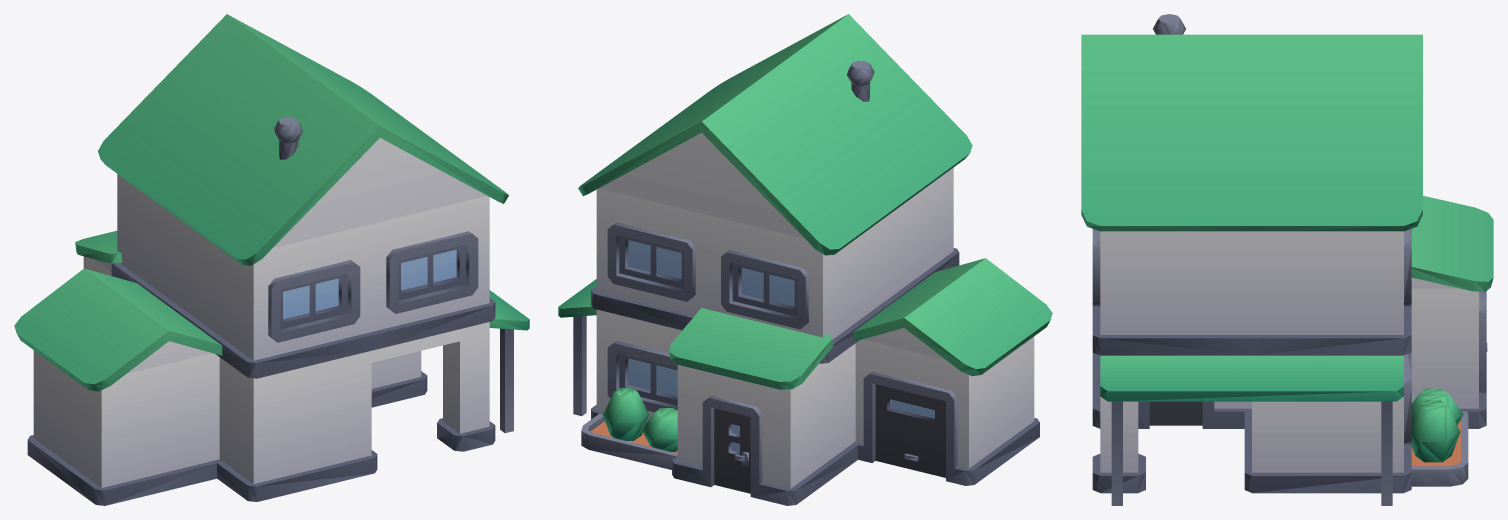
File: ks_house_s.fbx
3 renders of one model, left to right at view 1: azimuth 30°, elevation 25°; view 2: azimuth 150°, elevation 25°; view 3: azimuth 270°, elevation 25°, orthographic. The views are drawn at different scales.
Parts seen in each view (by area): view 1: ks_house_s_LOD0; view 2: ks_house_s_LOD0; view 3: ks_house_s_LOD0.
Part boxes in pixels (box(x1,y1,x2,y2)): ks_house_s_LOD0: box(14, 14, 529, 505); ks_house_s_LOD0: box(558, 14, 1052, 505); ks_house_s_LOD0: box(1081, 14, 1493, 505).
Size of what is drawn, in the model's own units: 11.95 by 9.67 by 9.23.
